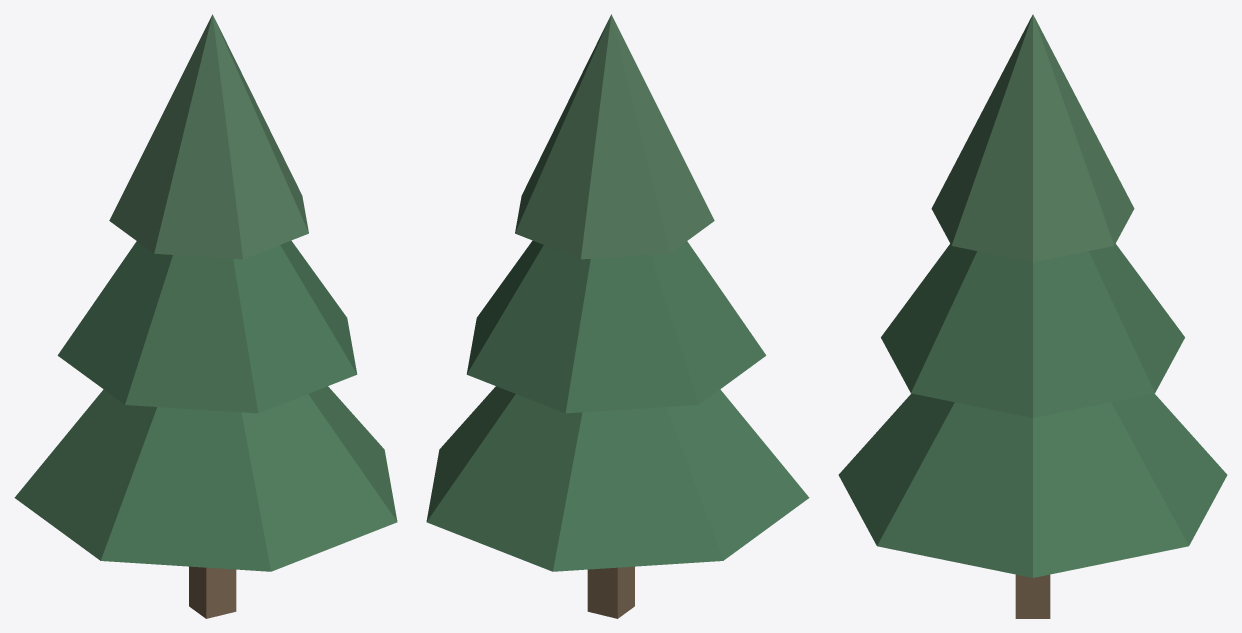
File: pine_2.glb
3 views of the same model, side by side, from view 1: azimuth 30°, elevation 25°; view 2: azimuth 150°, elevation 25°; view 3: azimuth 270°, elevation 25° (orthographic).
Bounding box in the file's own units: 4.37 × 7.6 × 4.48.
